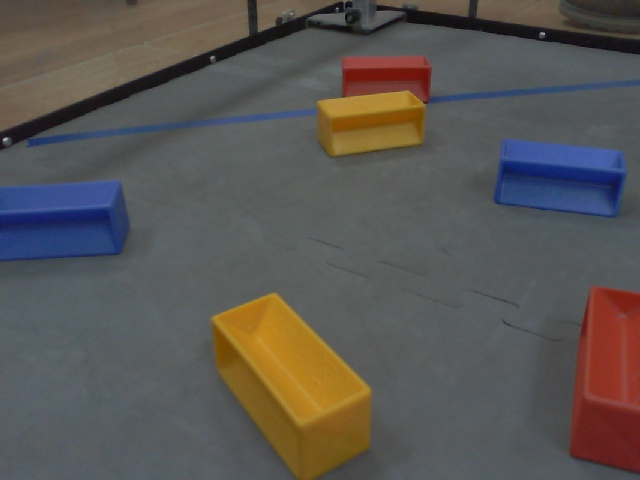BlueSample: (493, 131, 630, 225), (1, 176, 133, 259)
RedSample: (562, 284, 640, 477), (336, 55, 435, 105)
YellowSample: (202, 289, 379, 480), (312, 87, 431, 158)
